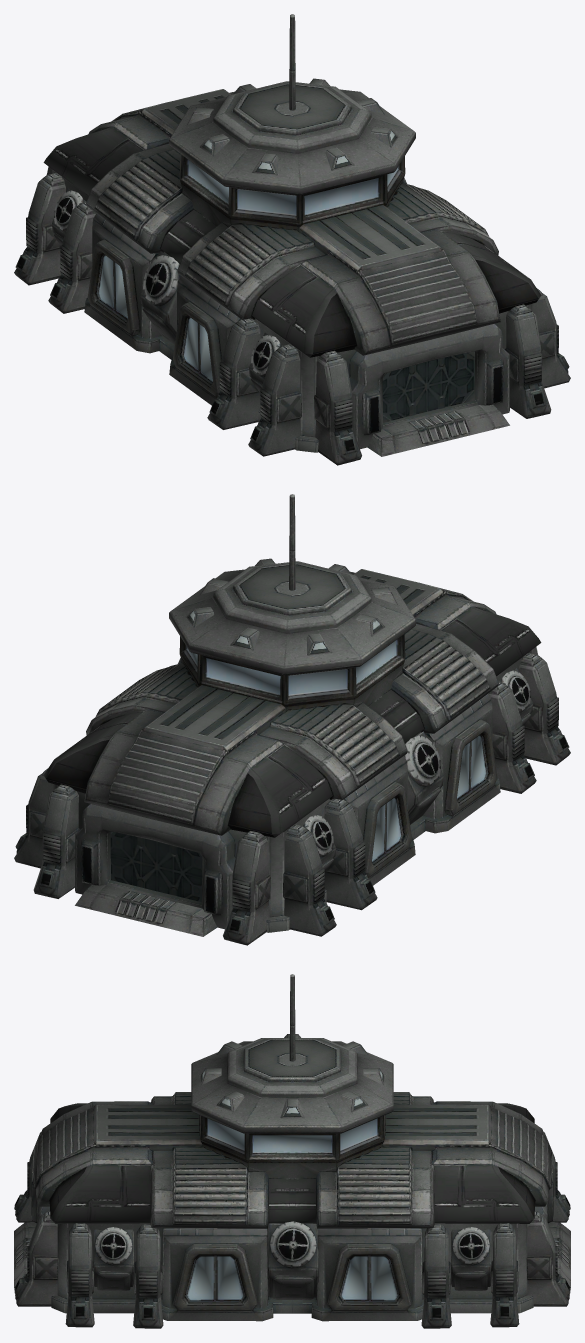
Rendered from UPLBillet.glb.
The picture shows the model from 3 angles, top to bottom: view 1: azimuth 30°, elevation 25°; view 2: azimuth 150°, elevation 25°; view 3: azimuth 270°, elevation 25°; orthographic projection. The views are drawn at different scales.
Visible parts, largest first — view 1: Mesh; view 2: Mesh; view 3: Mesh.
Part boxes in pixels (bbox=[...]): Mesh: bbox=[14, 14, 570, 465]; Mesh: bbox=[14, 494, 570, 945]; Mesh: bbox=[14, 974, 570, 1328].
Bounding box in the file's own units: 2.36 × 2.21 × 3.93.
1 material, 1 textured.
